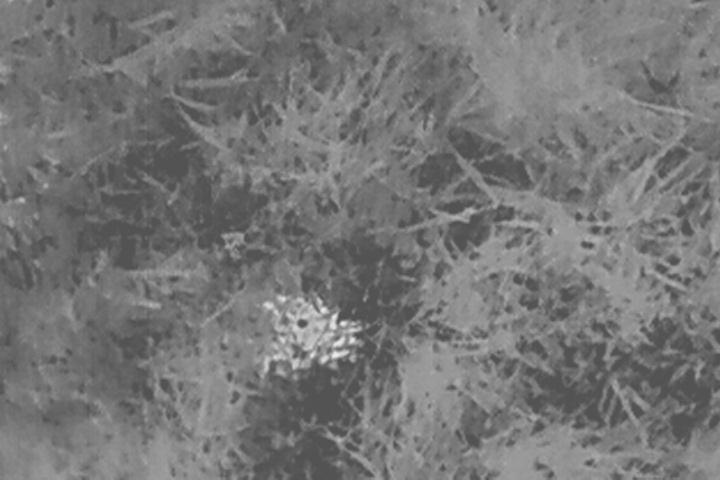landmine: (243, 288, 364, 379)
